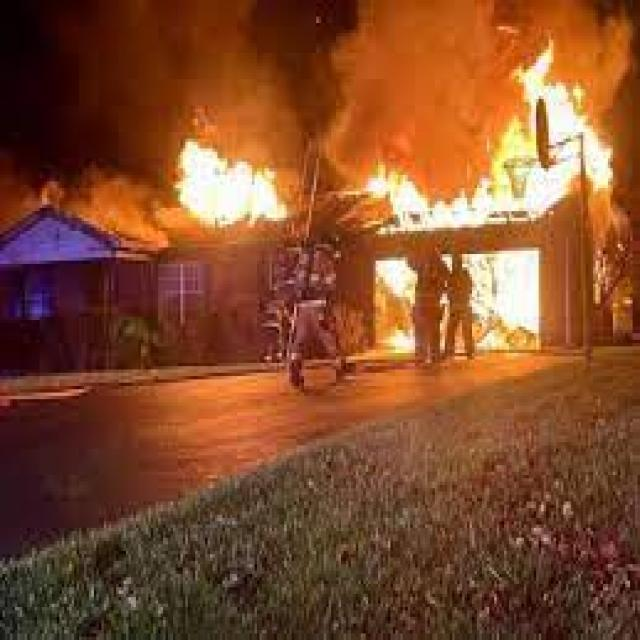Fire: (521, 67, 633, 195), (462, 172, 546, 327), (178, 142, 285, 238), (386, 156, 470, 228)
Smoke: (146, 0, 640, 132)
